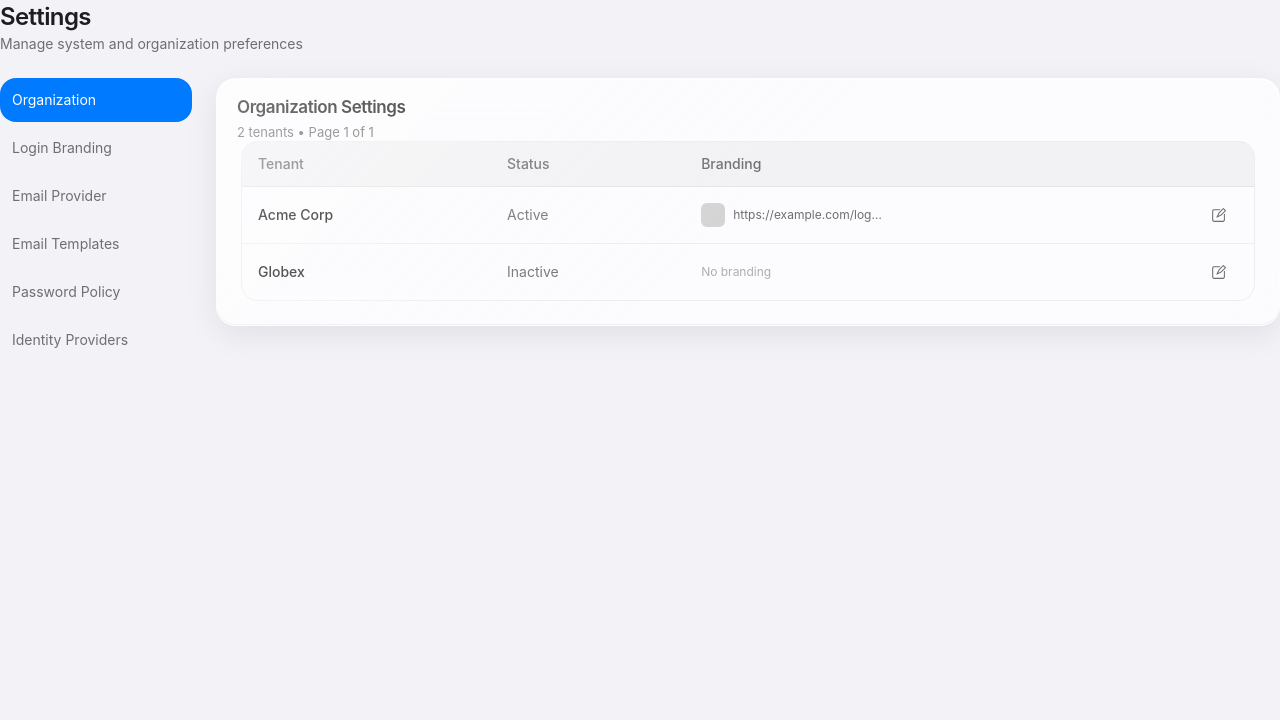
Test: Settings Page › closes edit dialog when cancel button is clicked
Expected: the text "Acme Corp" is shown, [242,187,491,244]
Click the button without text in the row of "Acme Corp" at (1218, 216), box [1198,200,1238,232]
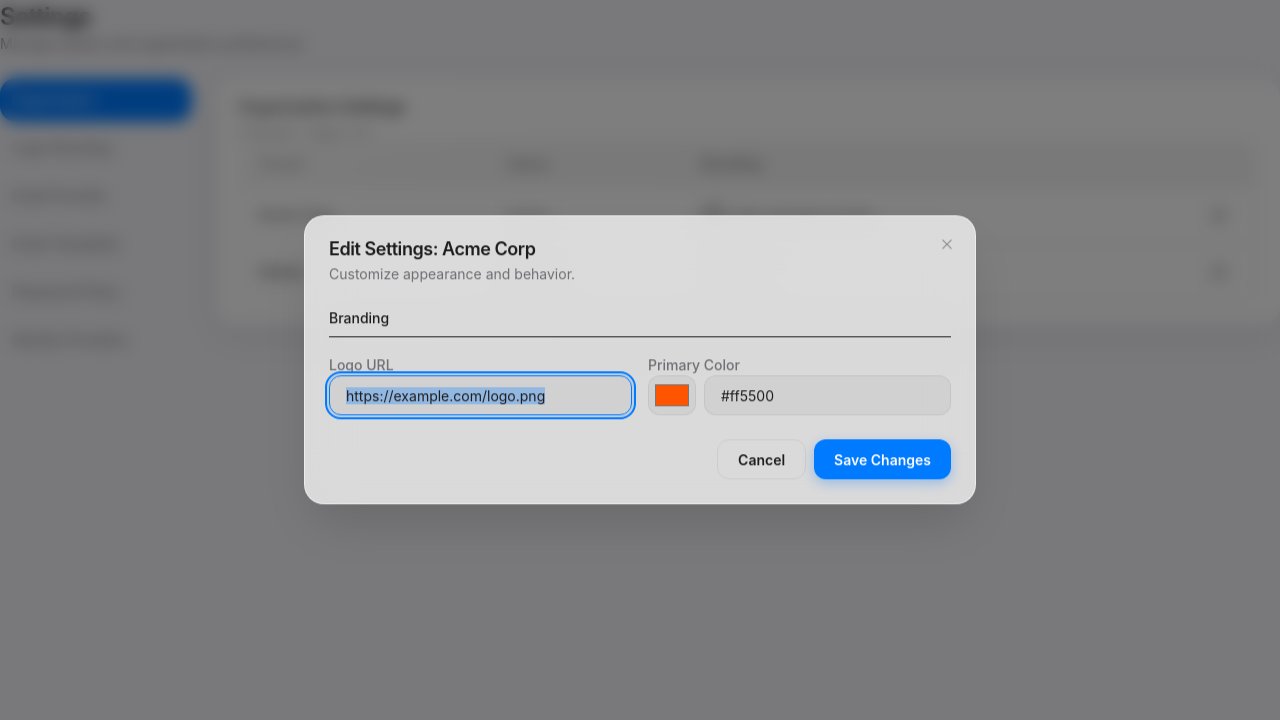
Now the dialog is shown, box [304,215,976,505]
Click cancel
Click the button "Cancel" at (762, 460), box [717,440,806,480]
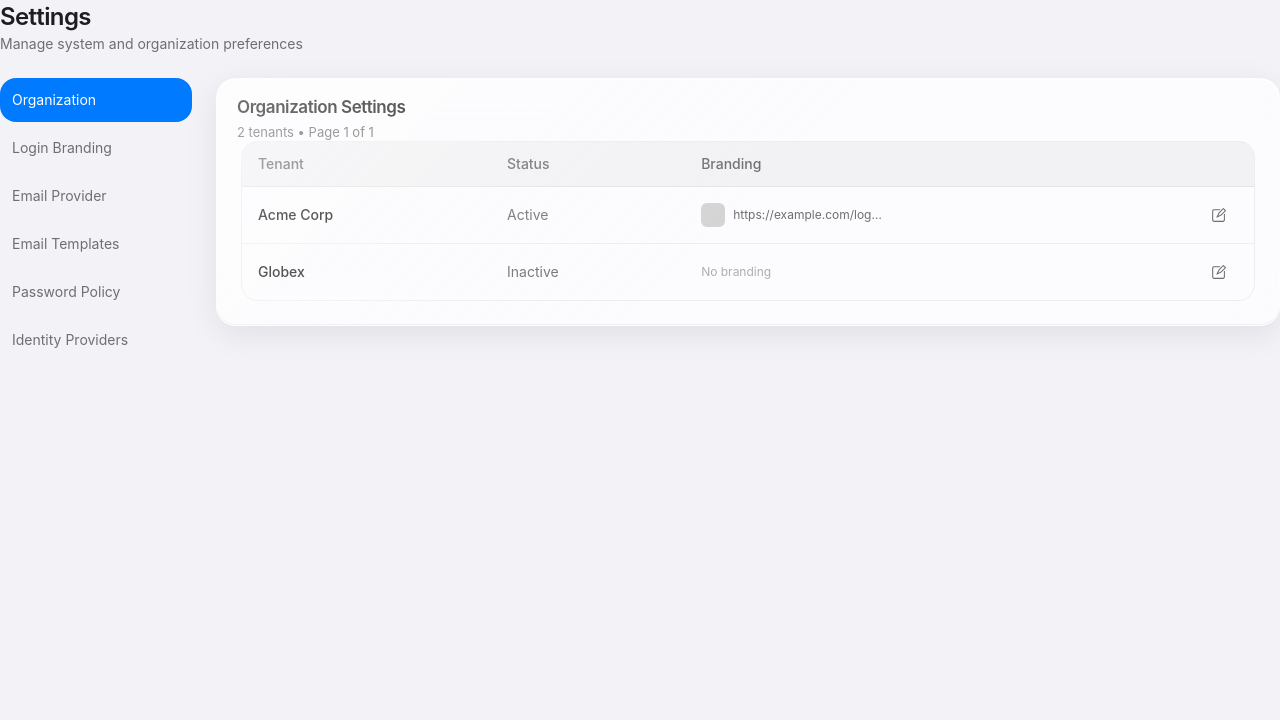
Now the dialog is gone
